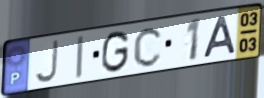1: (183, 16, 202, 64)
A: (202, 13, 239, 60)
C: (132, 25, 165, 69)
G: (100, 29, 131, 75)
I: (75, 34, 86, 81)
J: (33, 38, 60, 85)
